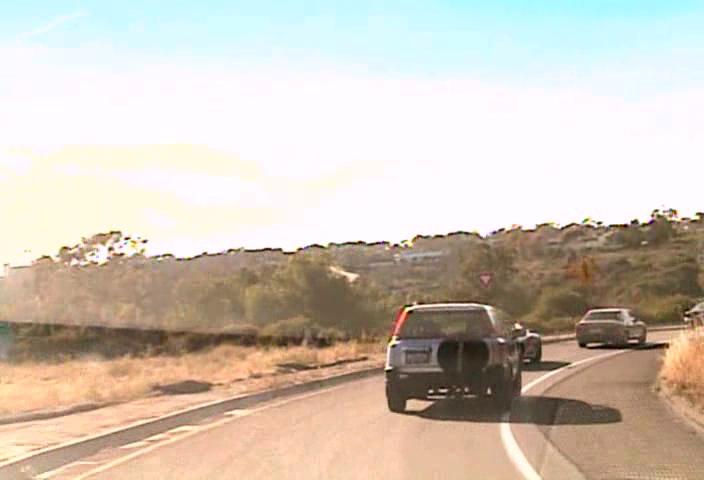yield: (476, 271, 495, 288)
